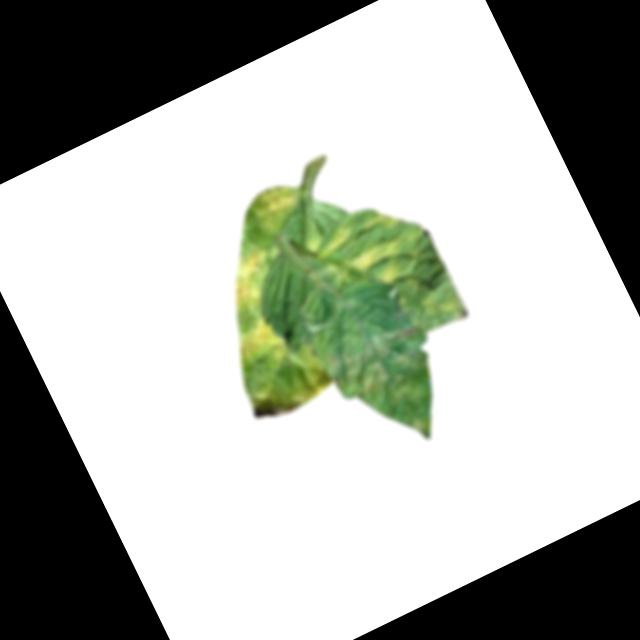Leaf_Mold: (326, 312, 469, 461), (315, 198, 423, 302), (237, 344, 343, 428), (213, 246, 285, 321), (227, 310, 299, 379), (244, 176, 309, 242)
